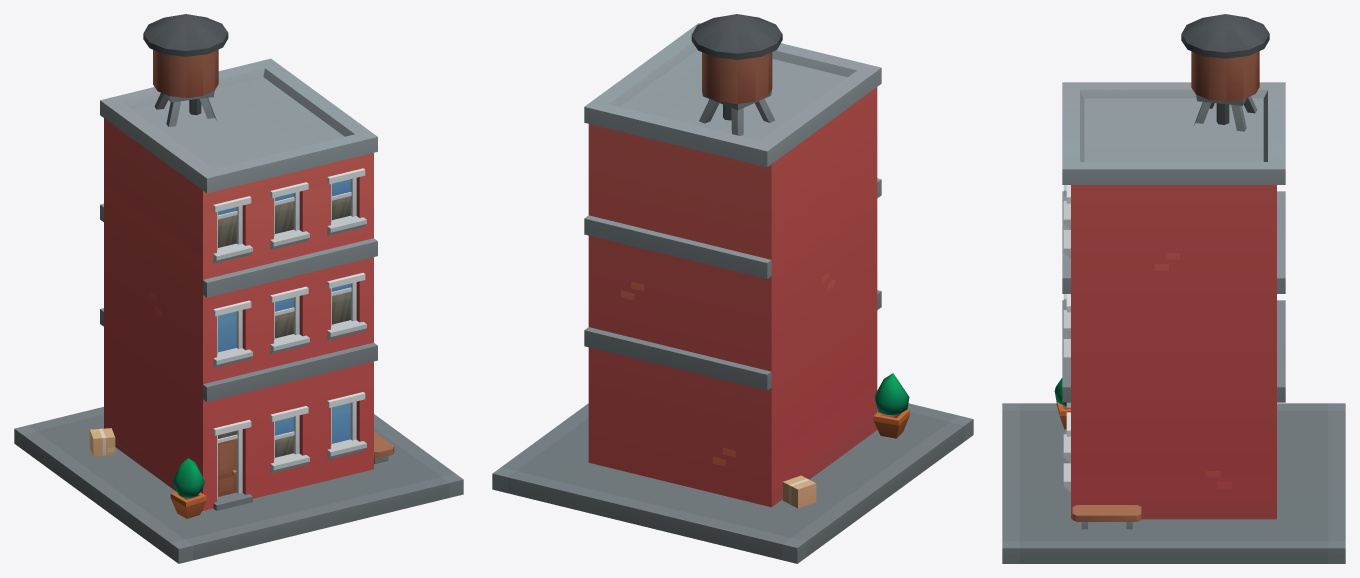
Rendered from kkcity.building_c.glb.
The picture shows the model from 3 angles, left to right: view 1: azimuth 30°, elevation 25°; view 2: azimuth 150°, elevation 25°; view 3: azimuth 270°, elevation 25°; orthographic projection. The views are drawn at different scales.
Parts seen in each view (by area): view 1: building_C; view 2: building_C; view 3: building_C.
Part boxes in pixels (x1,y1,x2,y2): building_C: (14,14,463,563); building_C: (492,14,973,563); building_C: (1002,14,1345,563).
Bounding box in the file's own units: 9.6 × 14.28 × 9.6.
1 material, 1 textured.
